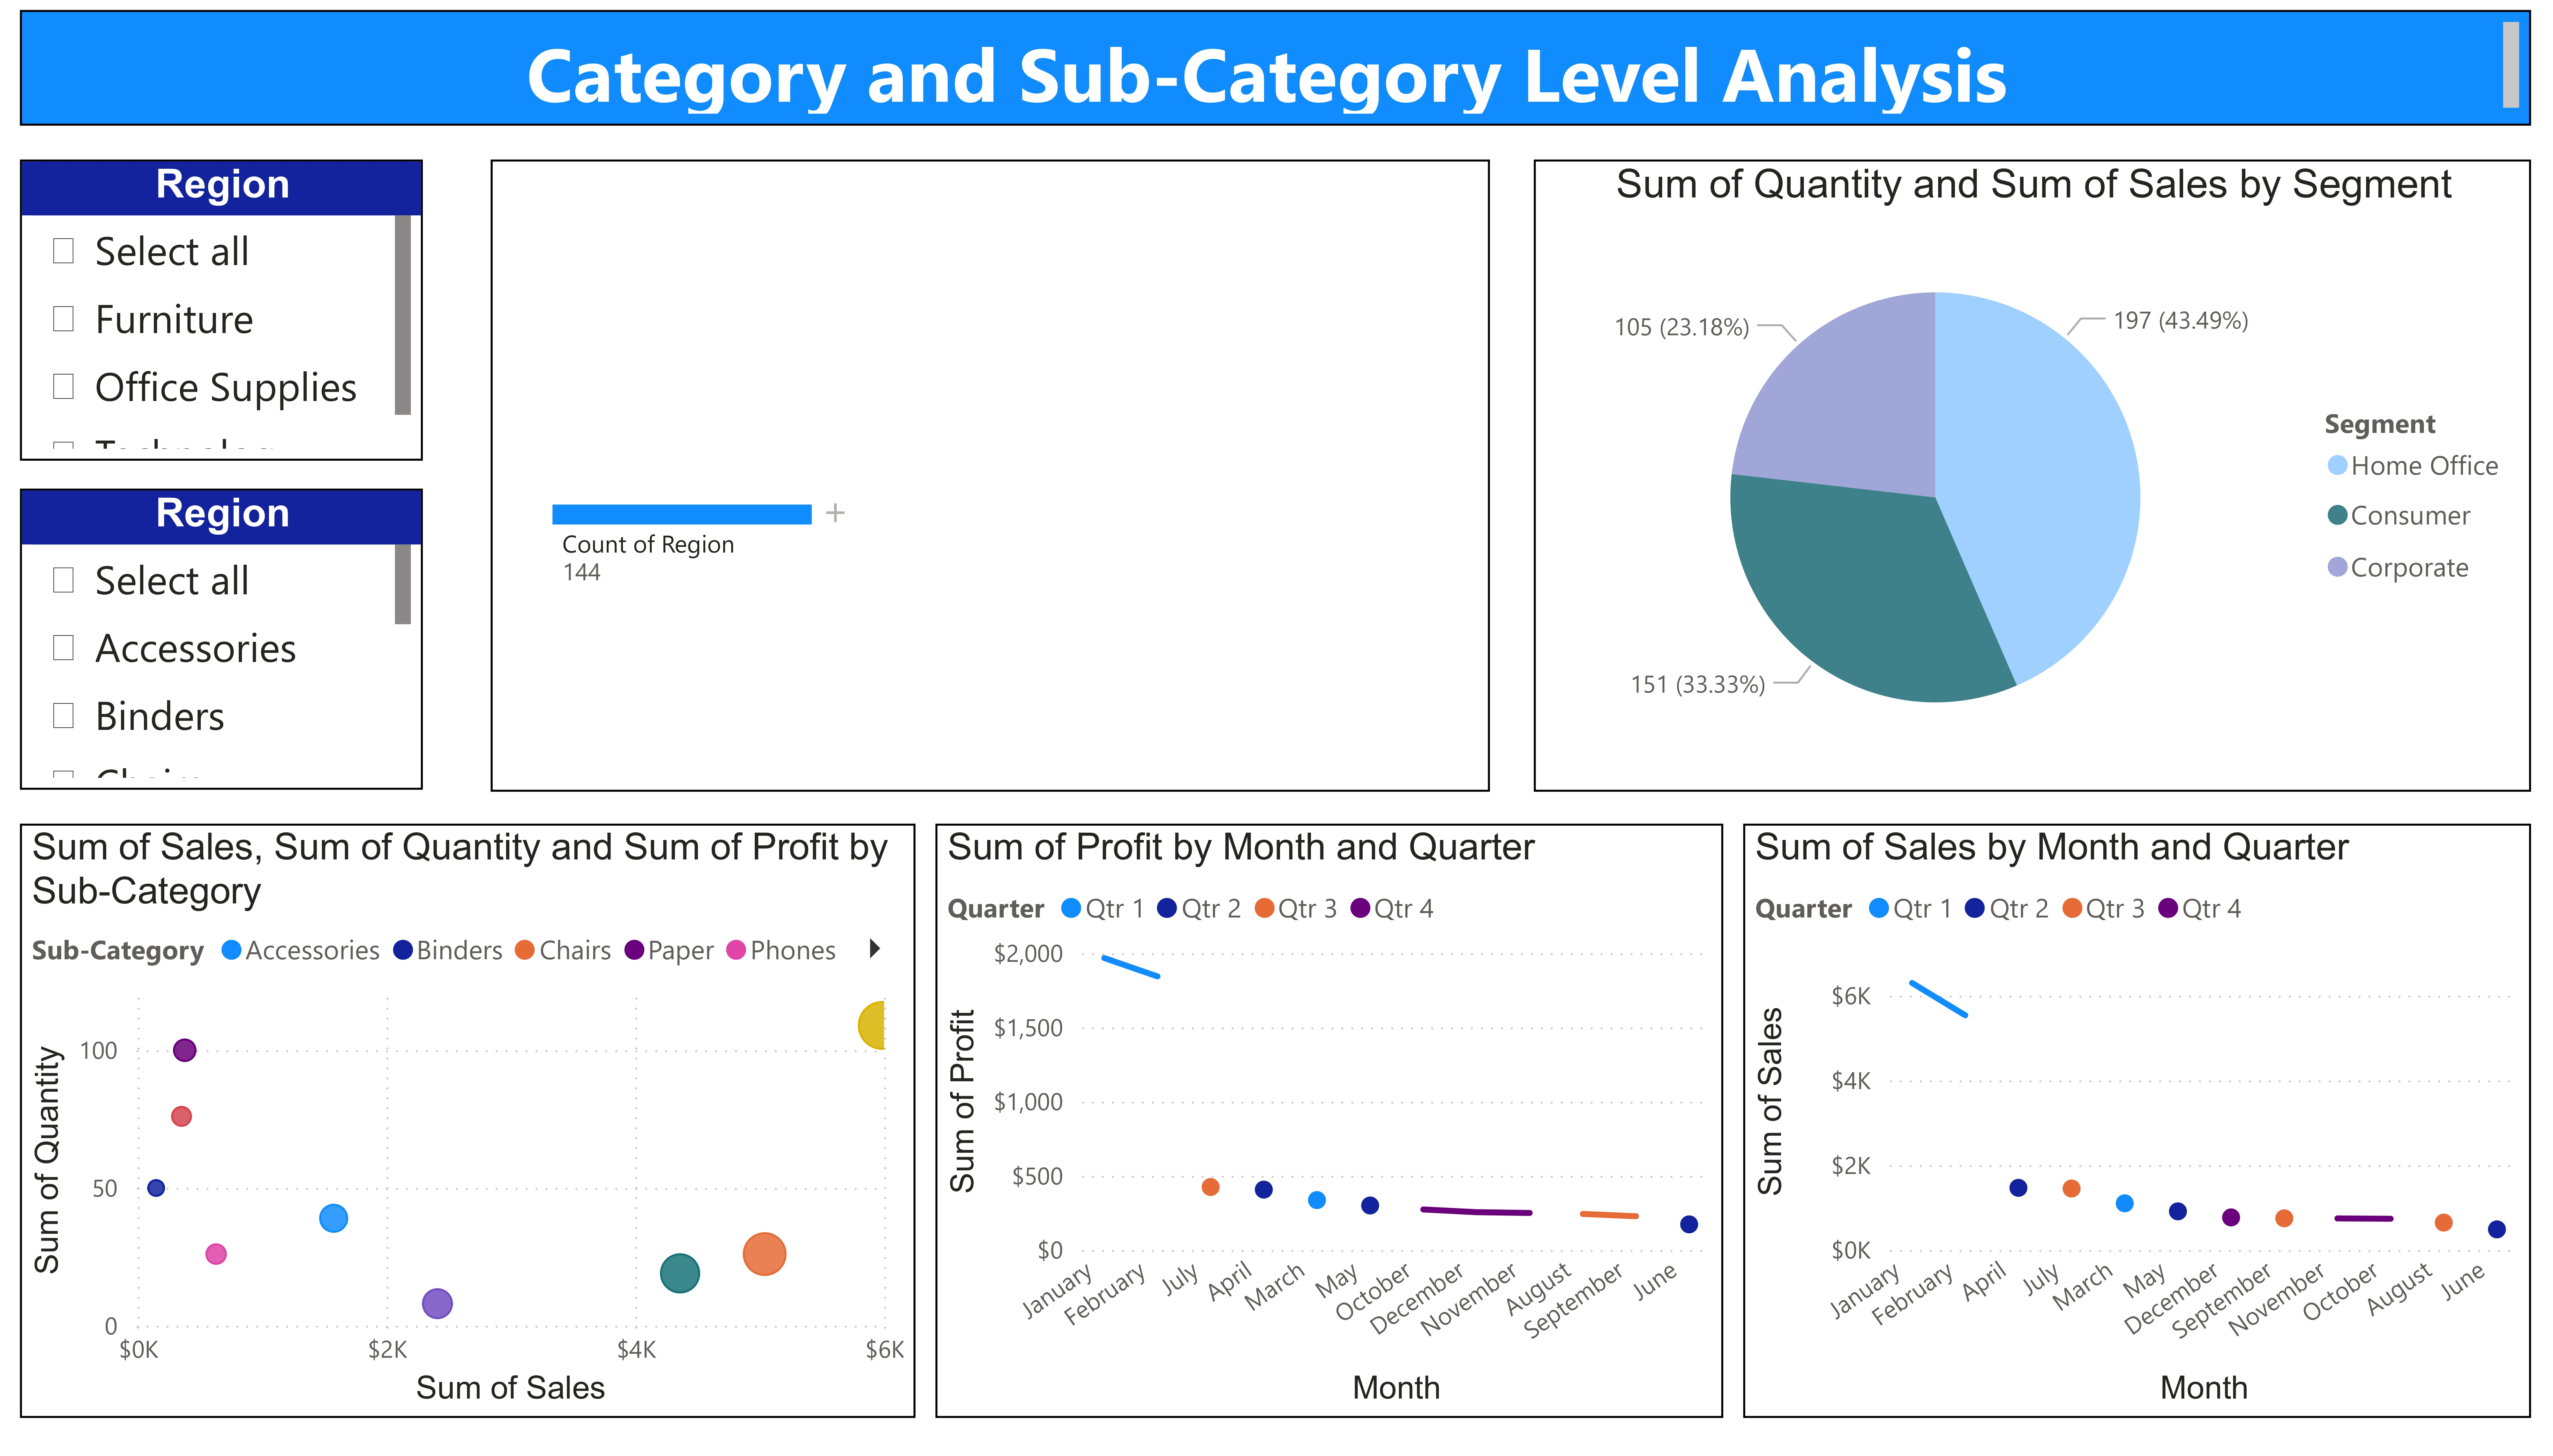

What the dashboard file says about the page in this screenshot:
{"tool":"powerbi","page":{"name":"Category and Sub-Category","canvas":[1280,720],"ordinal":2},"visuals":[{"type":"textbox","box":[10.1,0,1258.6,57.6],"z":0},{"type":"slicer","title":"Region","fields":{"Values":["Order.Category"]},"box":[10.1,74.9,201.6,151.2],"z":1000},{"type":"slicer","title":"Region","fields":{"Values":["Order.Sub-Category"]},"box":[10.1,240.5,201.6,151.2],"z":2000},{"type":"decompositionTreeVisual","fields":{"Analyze":["CountNonNull(Order.Region)"],"ExplainBy":["Order.Segment"]},"box":[246.2,74.9,501.1,316.8],"z":3000},{"type":"pieChart","fields":{"Y":["Sum(Order.Quantity)"],"Category":["Order.Segment"]},"box":[769,74.9,499.7,316.8],"z":4000},{"type":"scatterChart","fields":{"Series":["Order.Sub-Category"],"X":["Sum(Order.Sales)"],"Y":["Sum(Order.Quantity)"],"Size":["Sum(Order.Profit)"]},"box":[10.1,407.5,449.3,298.1],"z":5000},{"type":"lineChart","fields":{"Series":["Order.Quarter"],"Y":["Sum(Order.Profit)"],"Category":["Order.Month"]},"box":[469.4,407.5,394.6,298.1],"z":6000},{"type":"lineChart","fields":{"Series":["Order.Quarter"],"Category":["Order.Month"],"Y":["Sum(Order.Sales)"]},"box":[874.1,407.5,394.6,298.1],"z":7000}]}

Visuals, with their boxes in screenshot pixels (x1, y1, x2, y2), scaled from the page's 1280x720 canvas onto the 2553x1456 screenshot:
textbox: box=[20, 0, 2530, 116]
"Region" slicer: box=[20, 152, 422, 457]
"Region" slicer: box=[20, 487, 422, 792]
decompositionTreeVisual - CountNonNull(Order.Region) x Order.Segment: box=[491, 152, 1491, 792]
pieChart - Sum(Order.Quantity) x Order.Segment: box=[1534, 152, 2530, 792]
scatterChart - Order.Sub-Category x Sum(Order.Sales): box=[20, 824, 916, 1427]
lineChart - Order.Quarter x Sum(Order.Profit): box=[936, 824, 1723, 1427]
lineChart - Order.Quarter x Order.Month: box=[1743, 824, 2530, 1427]
